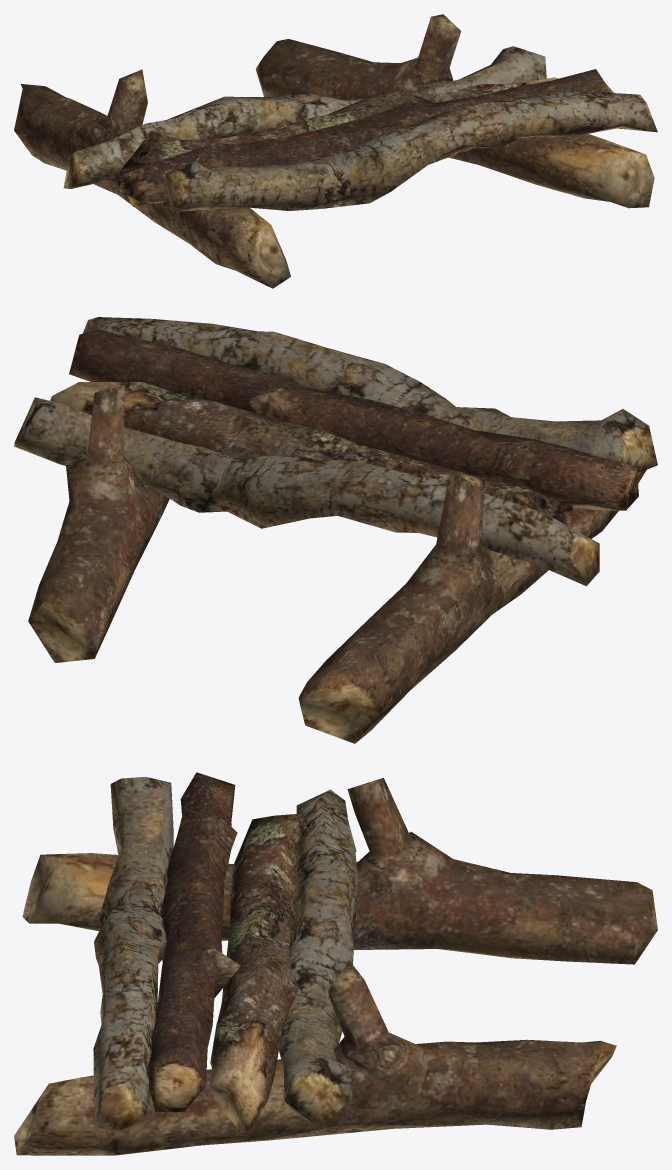
File: Plank MESH.fbx
The picture shows the model from 3 angles, top to bottom: view 1: azimuth 30°, elevation 25°; view 2: azimuth 150°, elevation 25°; view 3: azimuth 270°, elevation 25°; orthographic projection. The views are drawn at different scales.
Visible parts, largest first — view 1: stick11_lod4, stick17_lod4, stick17_lod5, stick11_lod5, stick12_lod4, stick15_lod4; view 2: stick11_lod5, stick12_lod4, stick17_lod5, stick17_lod4, stick11_lod4, stick15_lod4; view 3: stick17_lod4, stick17_lod5, stick11_lod4, stick15_lod4, stick12_lod4, stick11_lod5.
Part boxes in pixels (box(x1,y1,x2,y2)): stick11_lod4: box(165, 91, 657, 211); stick17_lod4: box(255, 14, 654, 208); stick17_lod5: box(14, 69, 290, 288); stick11_lod5: box(63, 46, 546, 188); stick12_lod4: box(115, 69, 613, 203); stick15_lod4: box(120, 77, 558, 206); stick11_lod5: box(14, 397, 599, 586); stick12_lod4: box(69, 329, 638, 510); stick17_lod5: box(298, 470, 646, 743); stick17_lod4: box(28, 385, 169, 662); stick11_lod4: box(83, 317, 657, 473); stick15_lod4: box(50, 382, 572, 526); stick17_lod4: box(14, 961, 616, 1155); stick17_lod5: box(22, 778, 657, 964); stick11_lod4: box(93, 777, 173, 1131); stick15_lod4: box(209, 813, 306, 1132); stick12_lod4: box(147, 772, 240, 1112); stick11_lod5: box(279, 789, 358, 1126).
Bounding box in the file's own units: 160 × 48.01 × 142.
